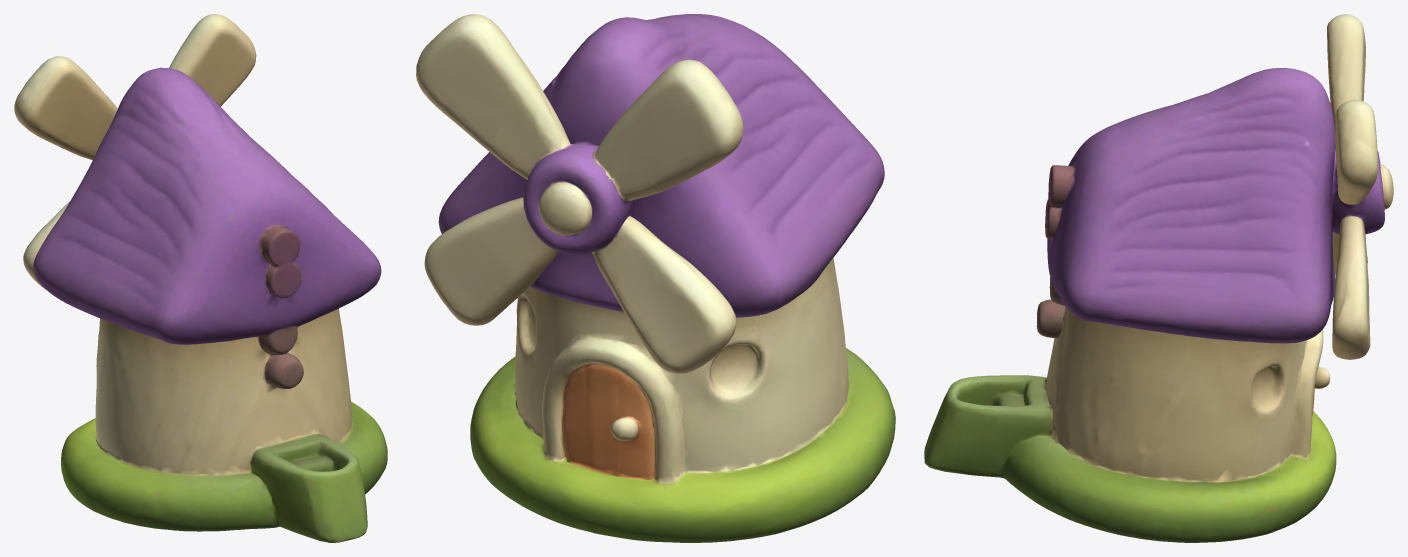
File: item_windmill.glb
3 renders of one model, left to right at view 1: azimuth 30°, elevation 25°; view 2: azimuth 150°, elevation 25°; view 3: azimuth 270°, elevation 25°, orthographic. The views are drawn at different scales.
Visible parts, largest first — view 1: geometry_0; view 2: geometry_0; view 3: geometry_0.
Part boxes in pixels (x1,y1,x2,y2): geometry_0: [14, 14, 387, 542]; geometry_0: [416, 14, 895, 542]; geometry_0: [924, 14, 1393, 542].
Size of the model in its own units: 0.61 by 0.7999 by 0.8086.
1 material, 1 textured.
